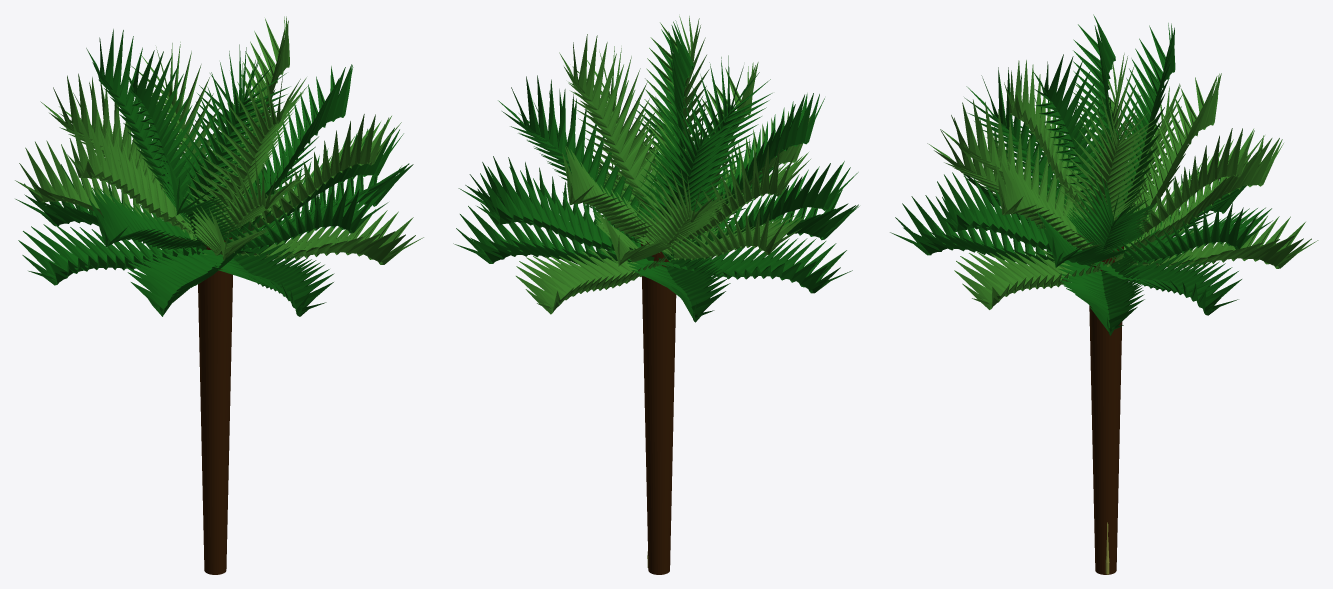
File: chochas.glb
3 renders of one model, left to right at view 1: azimuth 30°, elevation 25°; view 2: azimuth 150°, elevation 25°; view 3: azimuth 270°, elevation 25°, orthographic. The views are drawn at different scales.
Parts seen in each view (by area): view 1: Cylinder.001, Cube.023, Cube.001, Cube.027, Cube.026, Cube.018, Cube.008, Cube.021, Cube.022, Cube.006, Cube.012, Cube.007 (+14 smaller); view 2: Cylinder.001, Cube.024, Cube.014, Cube.022, Cube.025, Cube.004, Cube.001, Cube.003, Cube.026, Cube.009, Cube.010, Cube.017 (+13 smaller); view 3: Cylinder.001, Cube.024, Cube.027, Cube.006, Cube.020, Cube.025, Cube.017, Cube.005, Cube.003, Cube.014, Cube.008, Cube.012 (+13 smaller).
Boxes of the visible parts, x1,y1,x2,y2 form: Cylinder.001: [197, 237, 232, 574]; Cube.023: [184, 71, 307, 218]; Cube.001: [18, 224, 205, 285]; Cube.027: [178, 44, 290, 205]; Cube.026: [125, 50, 210, 214]; Cube.018: [67, 118, 191, 233]; Cube.008: [189, 242, 334, 316]; Cube.021: [237, 114, 401, 236]; Cube.022: [233, 64, 353, 231]; Cube.006: [204, 209, 423, 264]; Cube.012: [193, 185, 388, 250]; Cube.007: [126, 243, 246, 316]; Cylinder.001: [641, 223, 676, 574]; Cube.024: [559, 34, 662, 219]; Cube.014: [477, 164, 641, 251]; Cube.022: [498, 75, 656, 222]; Cube.025: [633, 94, 740, 221]; Cube.004: [516, 248, 668, 314]; Cube.001: [645, 230, 852, 293]; Cube.003: [453, 203, 654, 265]; Cube.026: [645, 55, 772, 207]; Cube.009: [637, 207, 805, 260]; Cube.010: [661, 161, 858, 261]; Cube.017: [625, 167, 735, 245]; Cylinder.001: [1089, 246, 1123, 574]; Cube.024: [1057, 93, 1157, 223]; Cube.027: [1033, 54, 1139, 207]; Cube.006: [954, 247, 1114, 309]; Cube.020: [941, 99, 1085, 238]; Cube.025: [1115, 23, 1175, 217]; Cube.017: [1114, 73, 1221, 223]; Cube.005: [1058, 253, 1144, 335]; Cube.003: [1091, 253, 1241, 315]; Cube.014: [1110, 203, 1272, 263]; Cube.008: [890, 195, 1094, 266]; Cube.012: [935, 172, 1084, 251].
Size of the model in its own units: 18.06 by 23.92 by 17.9.
